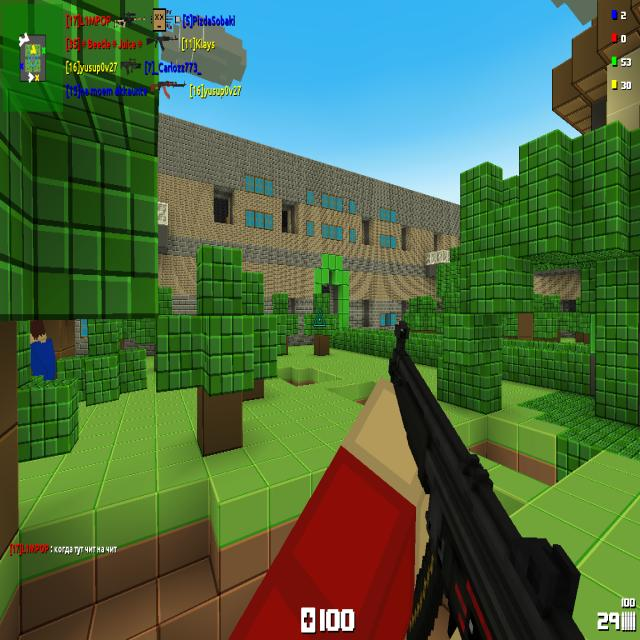enemy: (28, 319, 57, 382)
